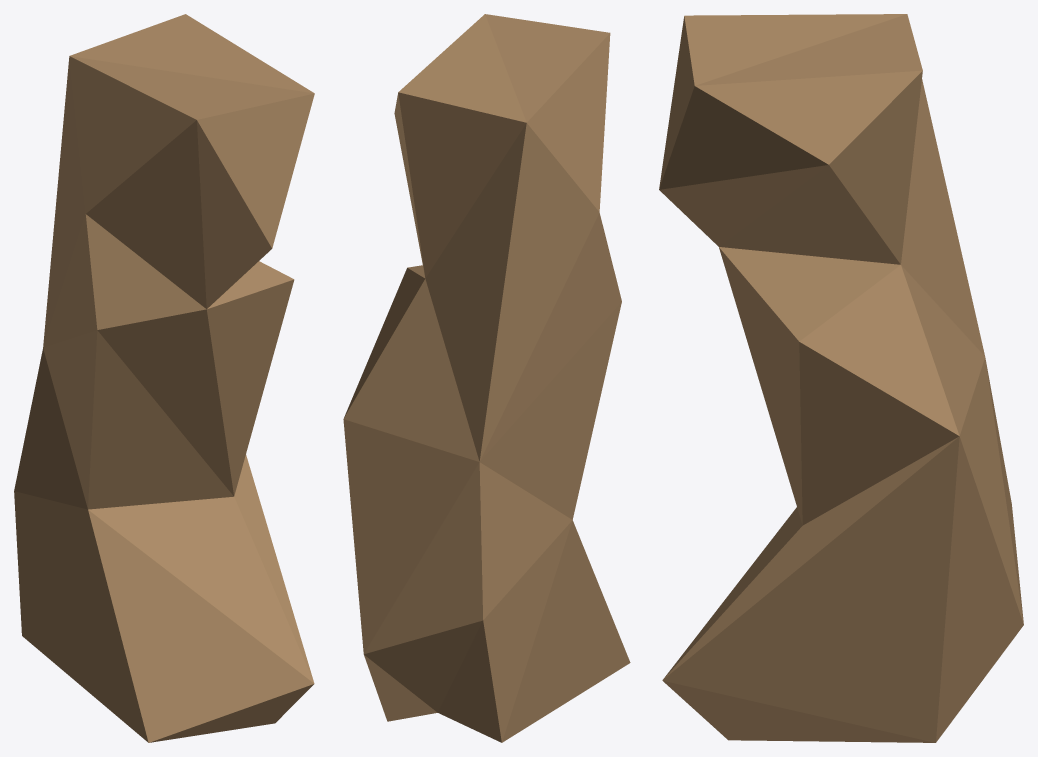
File: head-bronze.glb
The picture shows the model from 3 angles, left to right: view 1: azimuth 30°, elevation 25°; view 2: azimuth 150°, elevation 25°; view 3: azimuth 270°, elevation 25°; orthographic projection. The views are drawn at different scales.
Visible parts, largest first — view 1: z04.stl; view 2: z04.stl; view 3: z04.stl.
Boxes of the visible parts, x1,y1,x2,y2 form: z04.stl: (14, 14, 314, 742); z04.stl: (343, 14, 630, 742); z04.stl: (659, 14, 1023, 742).
Bounding box in the file's own units: 888 × 2621 × 1286.
